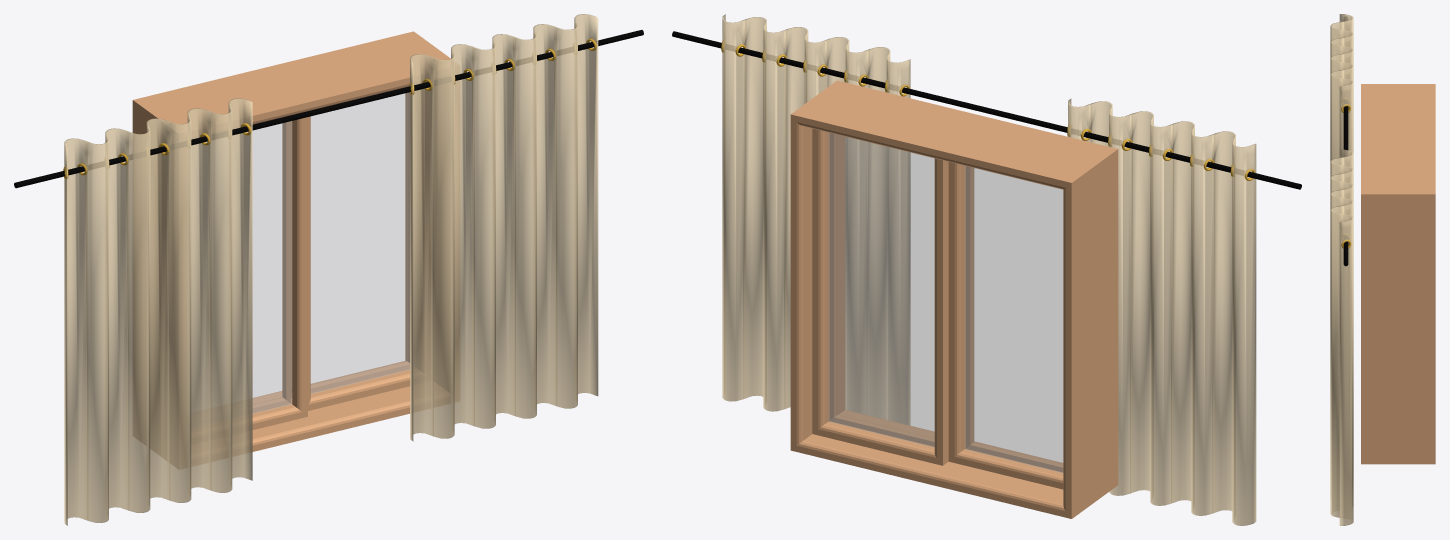
The model's file is 3DModel_Window.glb.
The picture shows the model from 3 angles, left to right: view 1: azimuth 30°, elevation 25°; view 2: azimuth 150°, elevation 25°; view 3: azimuth 270°, elevation 25°; orthographic projection. The views are drawn at different scales.
Visible parts, largest first — view 1: Window.001; view 2: Window.001; view 3: Window.001.
Part boxes in pixels (left/top/right/bottom): Window.001: left=14, top=14, right=643, bottom=525; Window.001: left=672, top=14, right=1301, bottom=525; Window.001: left=1330, top=14, right=1435, bottom=525.
Size of the model in its own units: 3.12 by 1.8 by 0.5648.
